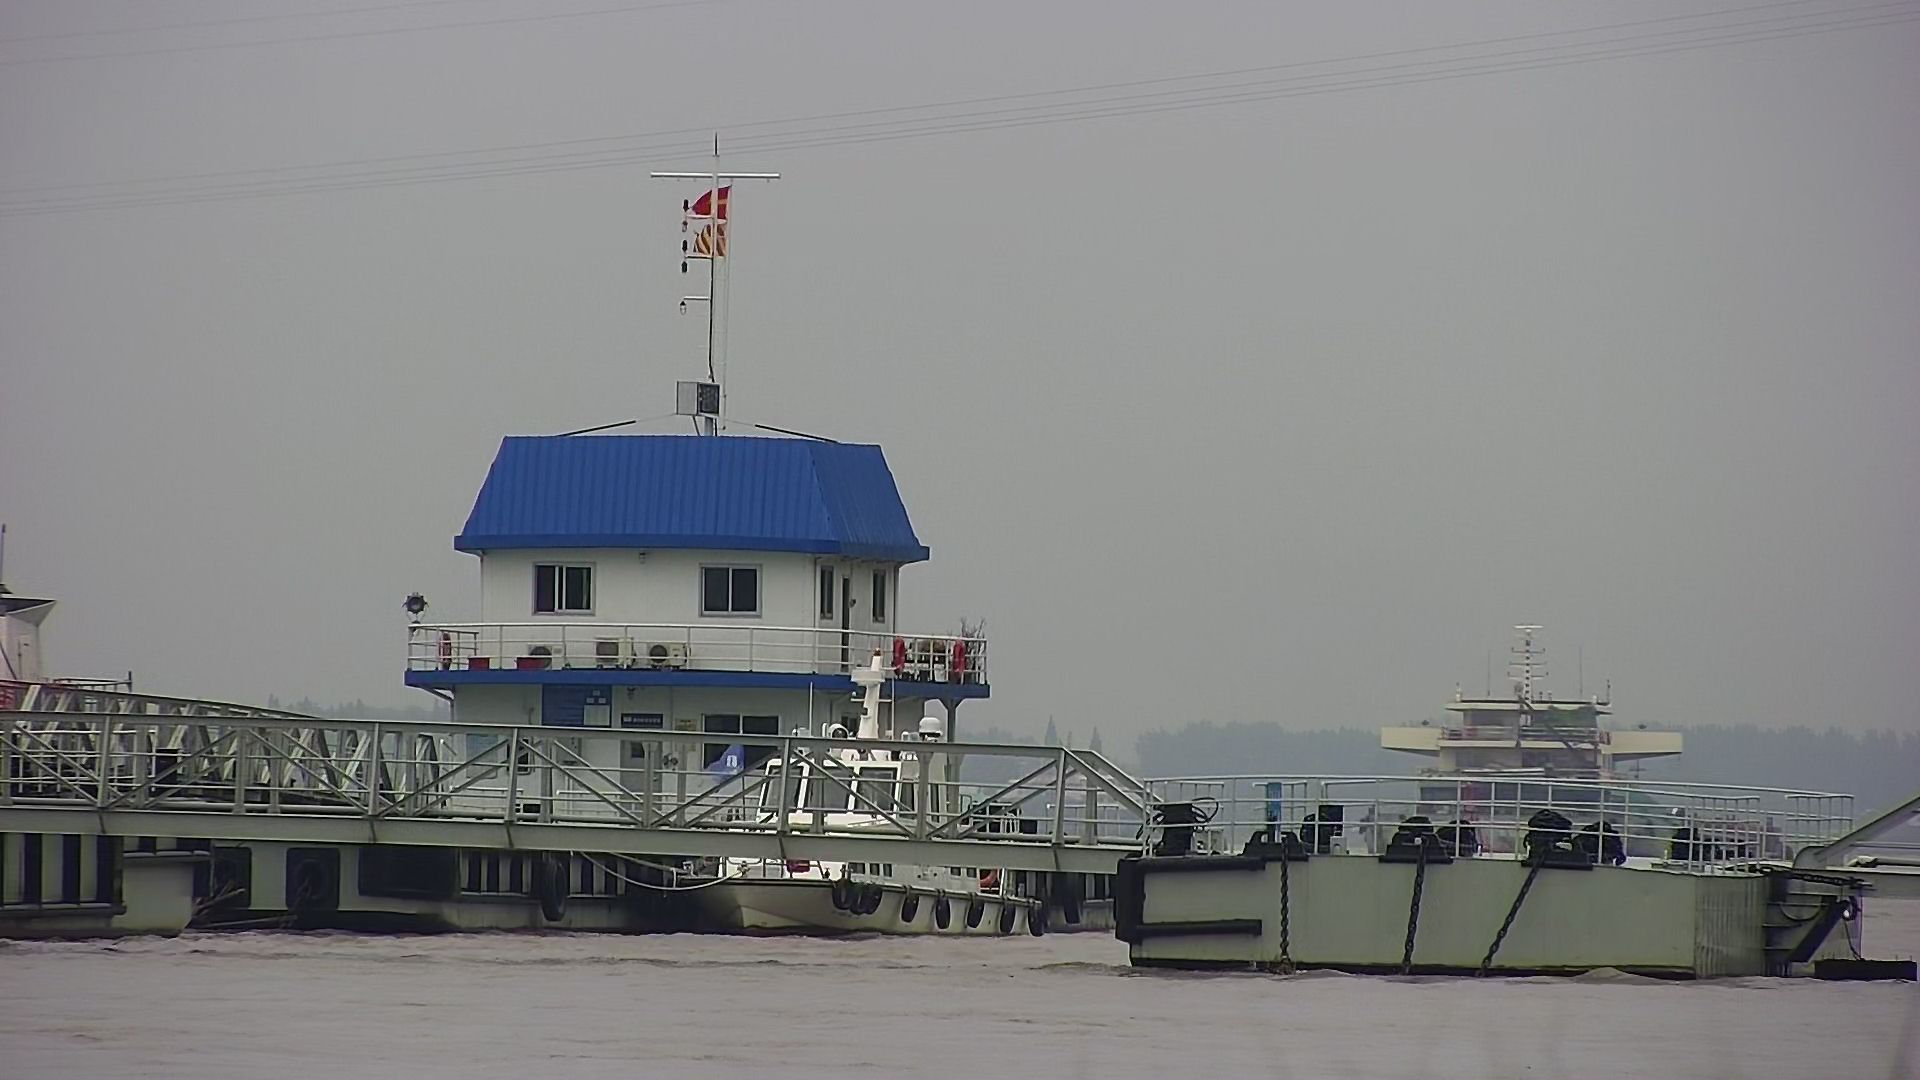bridge: (1, 684, 1167, 885)
platform: (1054, 680, 1878, 996)
ship: (1, 136, 1131, 935)
